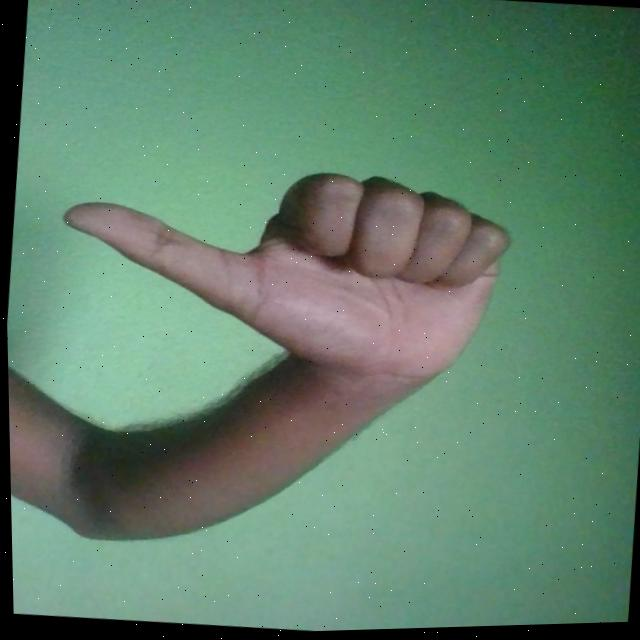Dislike: (48, 149, 516, 405)
